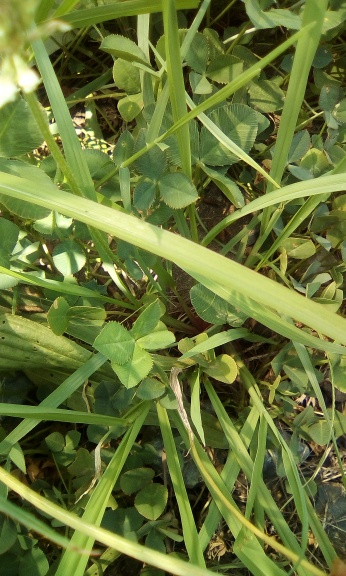4leaf: (92, 298, 177, 390)
